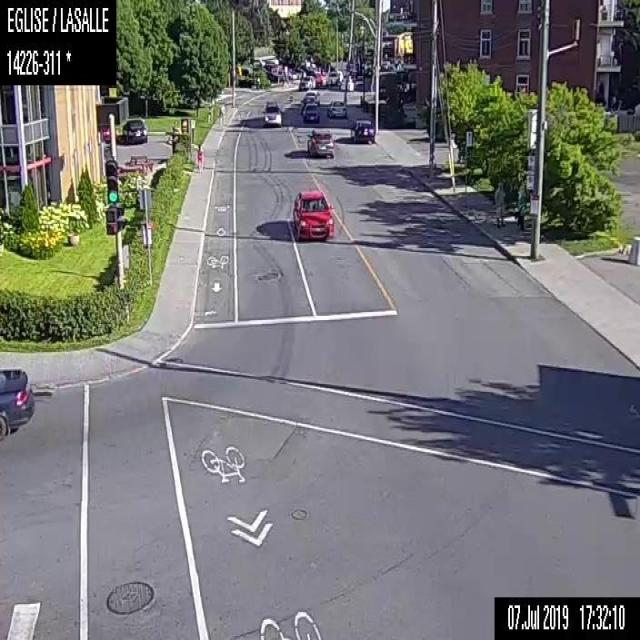pedestrian: (493, 180, 506, 229), (516, 183, 526, 229), (216, 100, 224, 125), (196, 143, 203, 169)
vehicle: (0, 363, 36, 441), (292, 187, 334, 240), (304, 125, 334, 156), (121, 117, 148, 145), (351, 117, 374, 143), (260, 99, 282, 125), (326, 98, 346, 118), (302, 102, 320, 124), (326, 69, 342, 88), (297, 74, 314, 91), (300, 90, 320, 104)
